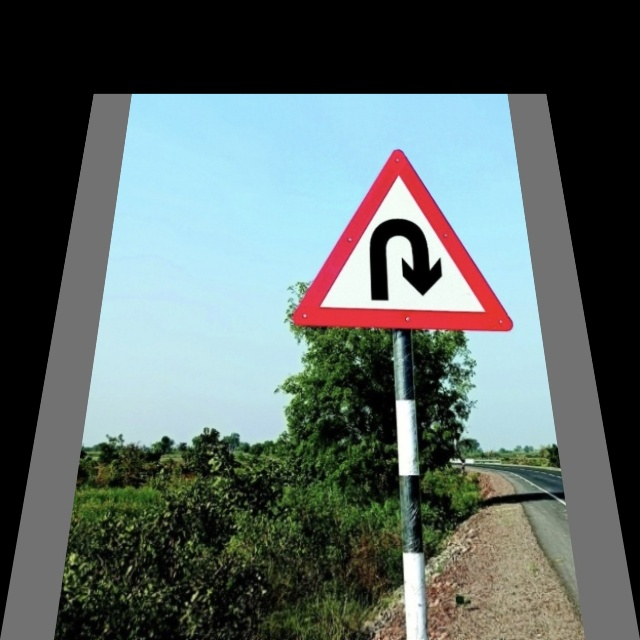Right_Hair_Pin_Bend: (294, 150, 515, 331)
